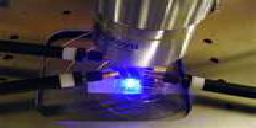LED: (117, 72, 145, 100)
